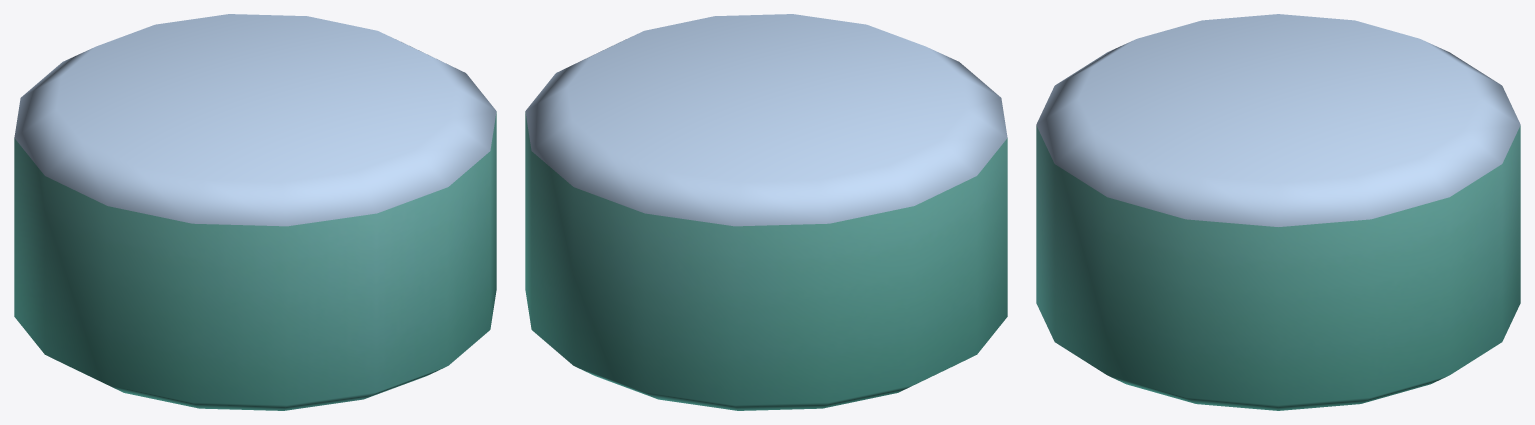
Rendered from Juice_Bottle_Cap_03.fbx.
3 renders of one model, left to right at view 1: azimuth 30°, elevation 25°; view 2: azimuth 150°, elevation 25°; view 3: azimuth 270°, elevation 25°, orthographic.
Visible parts, largest first — view 1: Juice_Bottle_Cap_03; view 2: Juice_Bottle_Cap_03; view 3: Juice_Bottle_Cap_03.
Boxes of the visible parts, bbox=[...] form: Juice_Bottle_Cap_03: bbox=[14, 14, 496, 410]; Juice_Bottle_Cap_03: bbox=[525, 14, 1007, 410]; Juice_Bottle_Cap_03: bbox=[1036, 14, 1520, 410].
Size of the model in its own units: 22.44 by 11.31 by 22.44.
